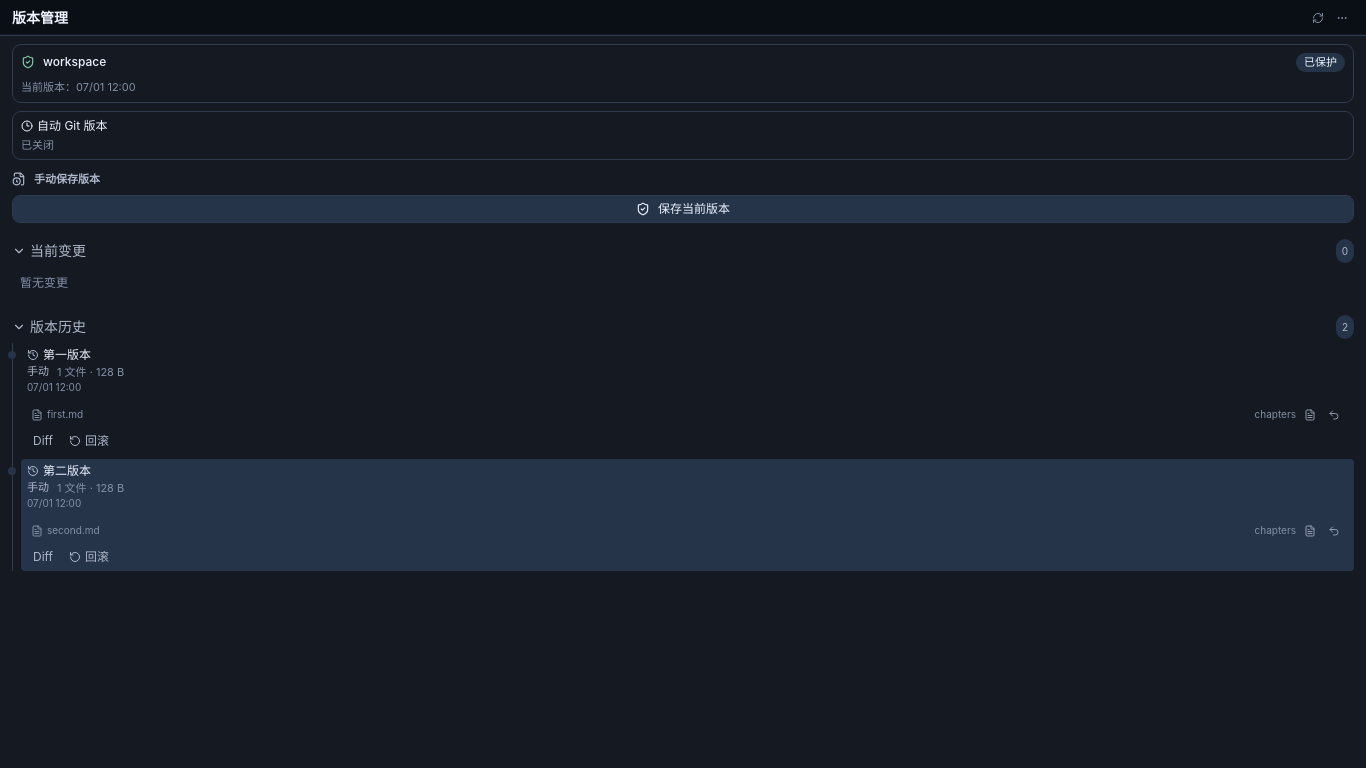
Test: VersionPanel › ignores stale restore preview responses after another restore dialog opens
The width and height of the screenshot is (1366, 768).
Click the button "回滚" below "first.md".
click(89, 441)  # box [63, 431, 115, 451]
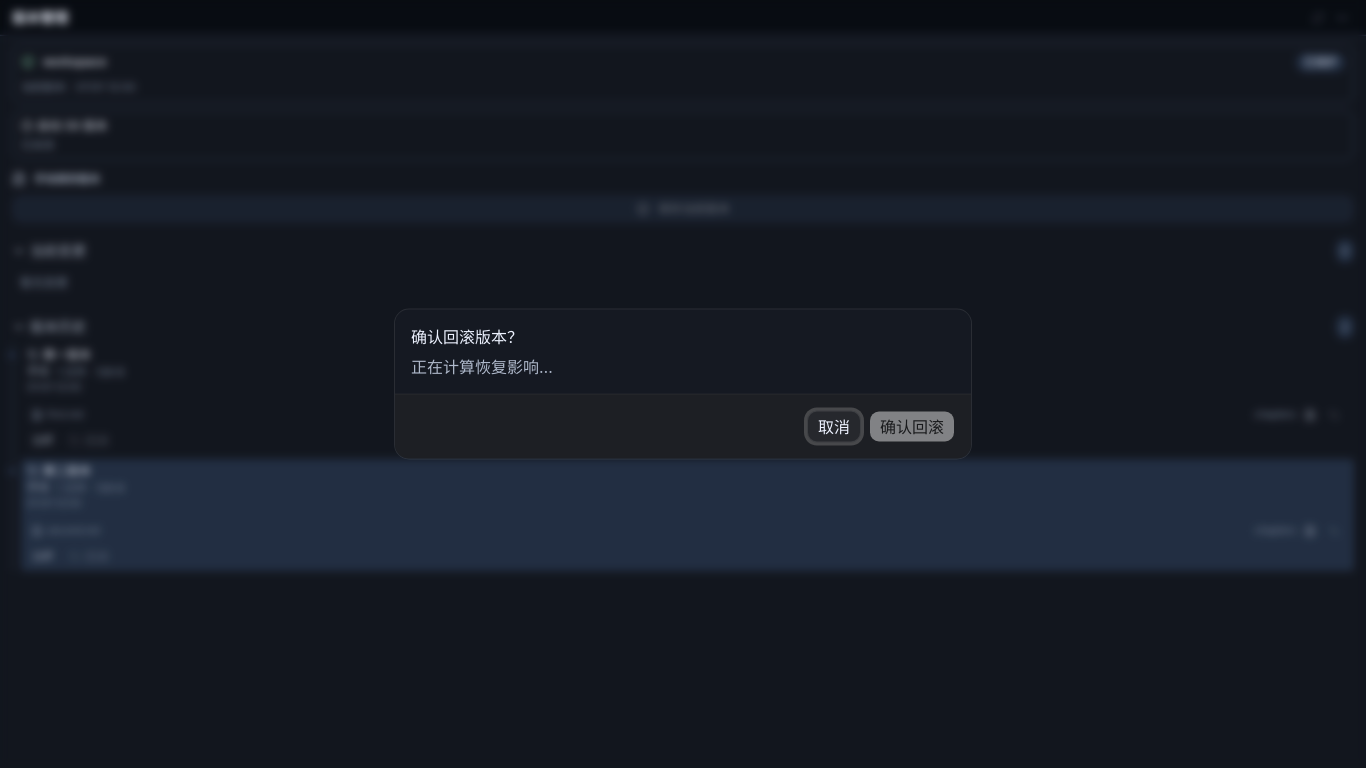
Expected: the text "正在计算恢复影响…" is shown, [411, 356, 553, 378]
Click the button "取消".
click(834, 426)  # box [807, 410, 861, 442]
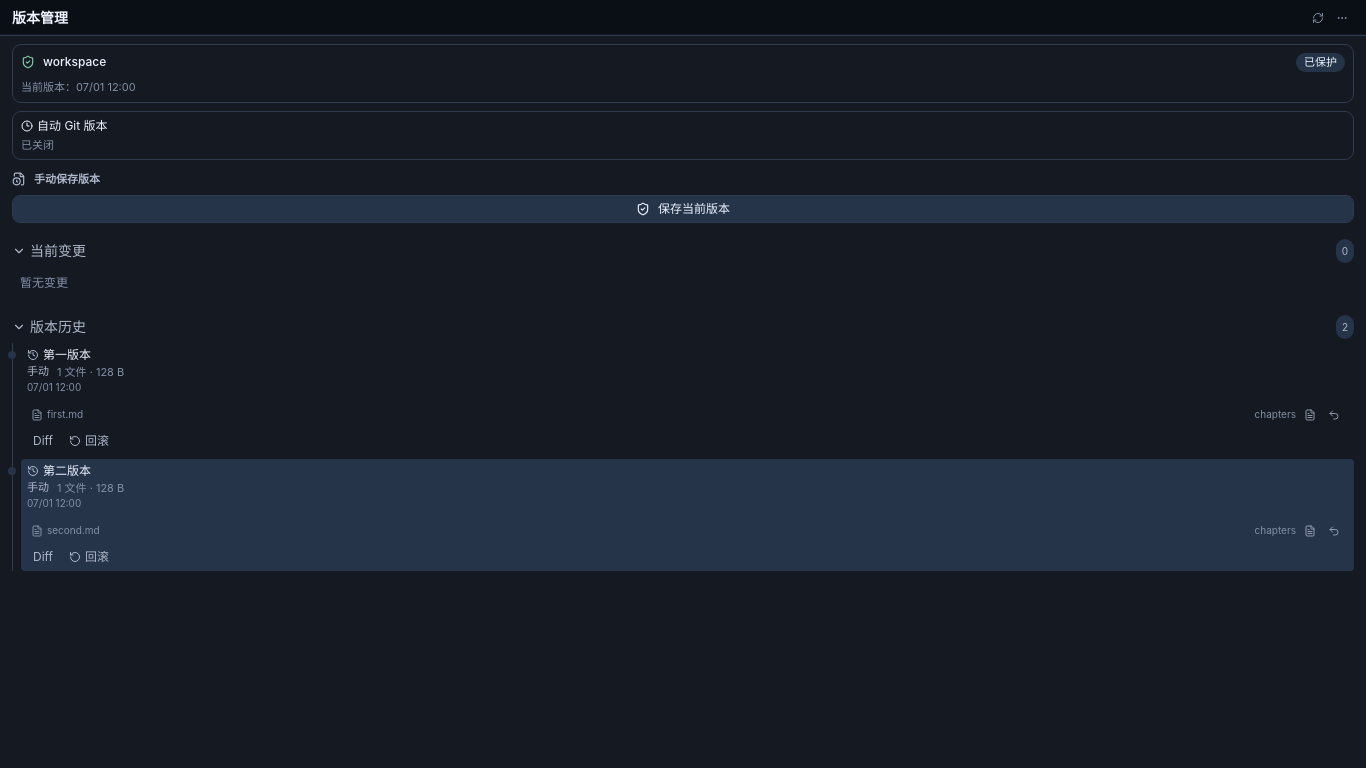
Click the button "回滚" below "second.md".
click(89, 557)  # box [63, 547, 115, 567]
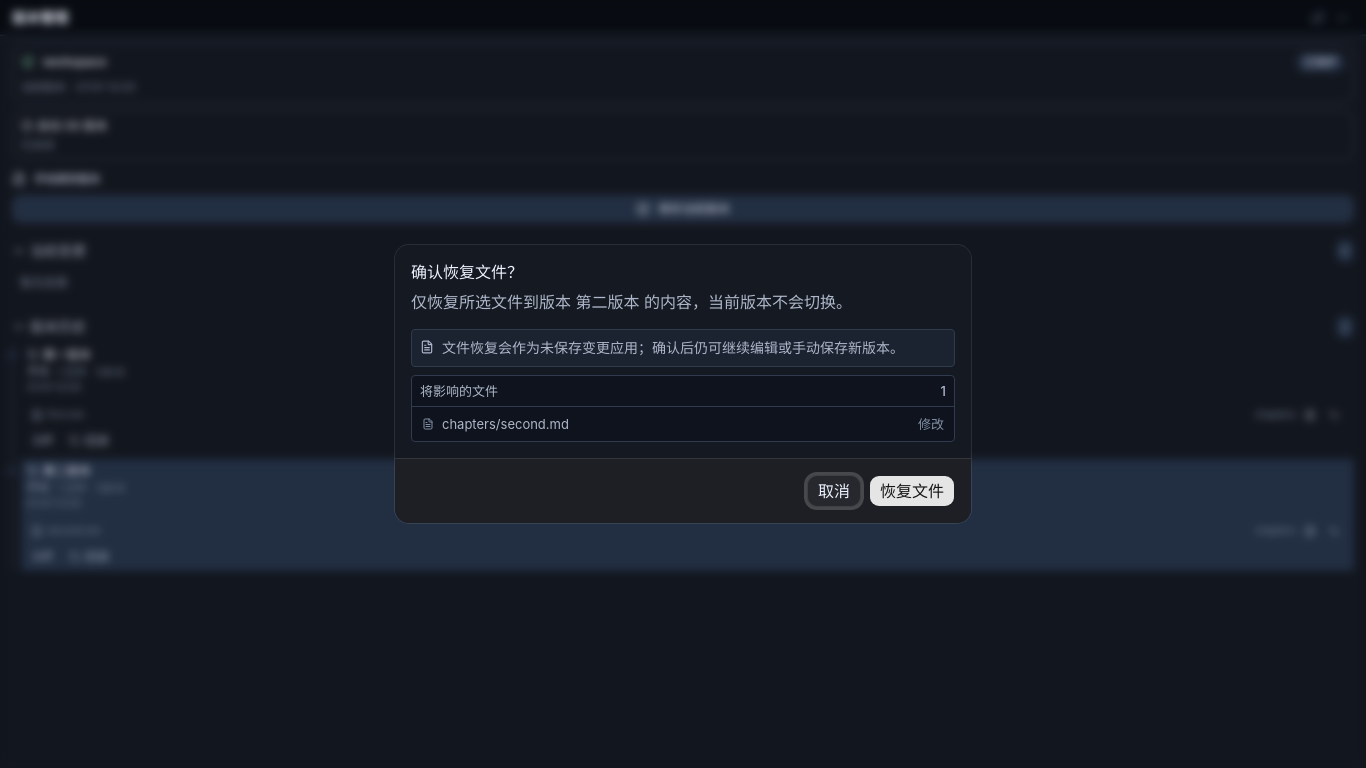
Expected: the text "chapters/second.md" is shown, [442, 416, 569, 432]
